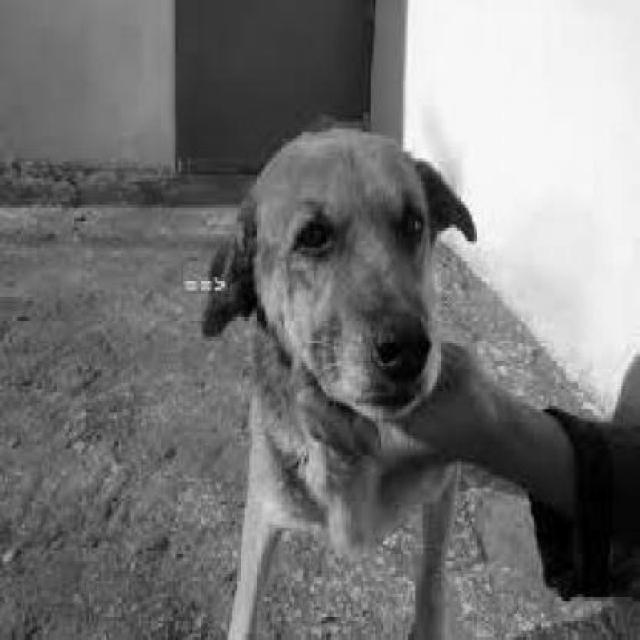Dog: (195, 119, 487, 636)
